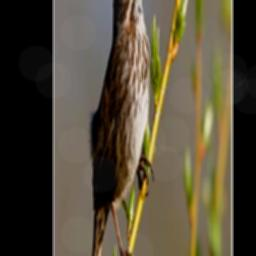Sparrow: (89, 0, 155, 256)
